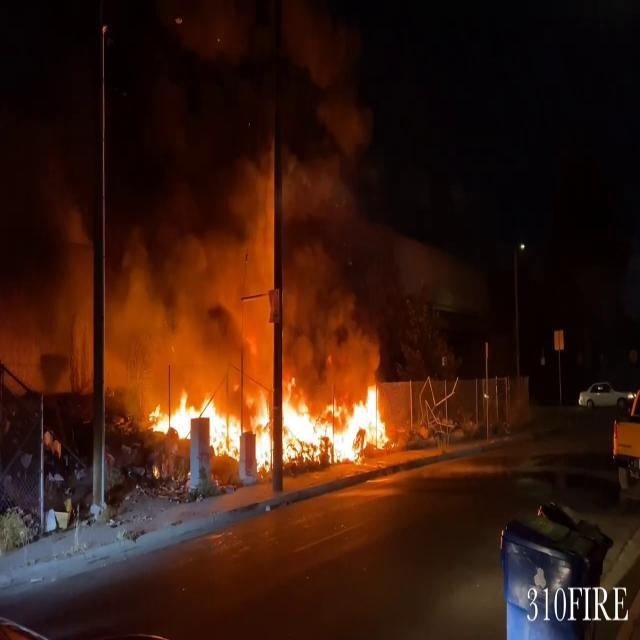Fire: (146, 370, 394, 472)
Smoke: (3, 2, 399, 378)
